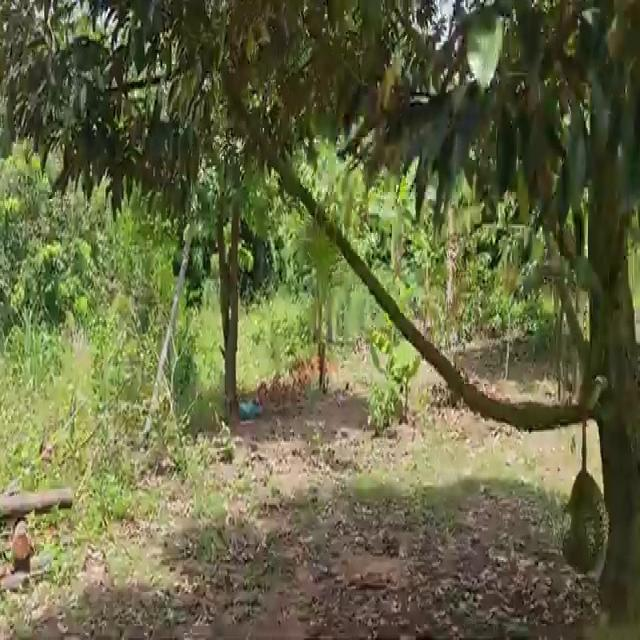durian: (555, 462, 613, 582)
